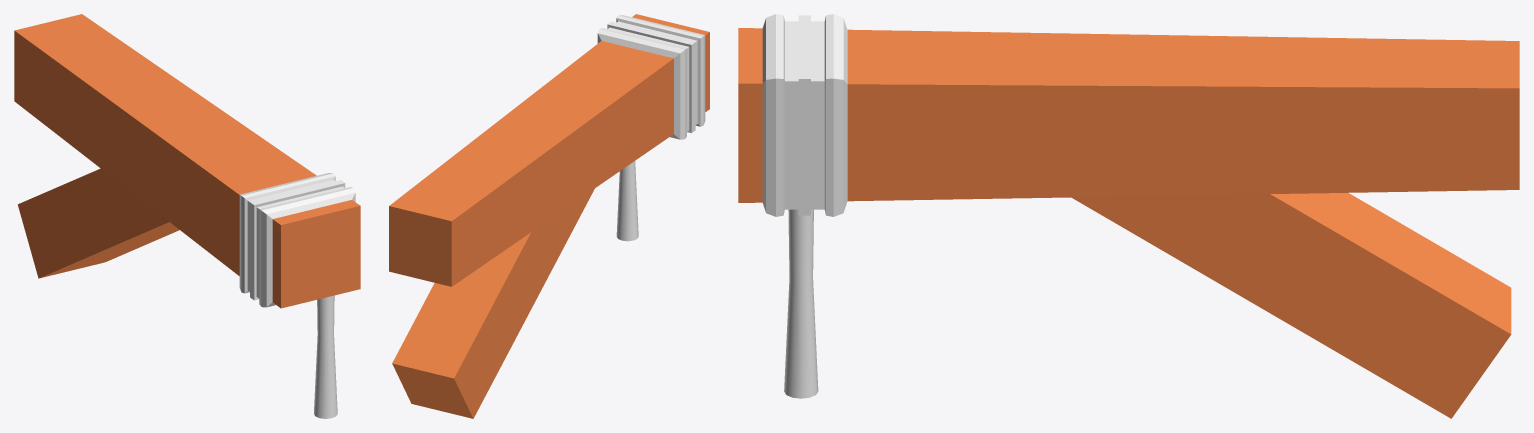
The model's file is WoodRope.fbx.
3 renders of one model, left to right at view 1: azimuth 30°, elevation 25°; view 2: azimuth 150°, elevation 25°; view 3: azimuth 270°, elevation 25°, orthographic. The views are drawn at different scales.
Parts seen in each view (by area): view 1: WoodRope; view 2: WoodRope; view 3: WoodRope.
Boxes of the visible parts, box(x1,y1,x2,y2) form: WoodRope: box(14, 14, 360, 418); WoodRope: box(389, 14, 709, 418); WoodRope: box(738, 14, 1519, 418).
Bounding box in the file's own units: 62.37 × 157 × 319.
